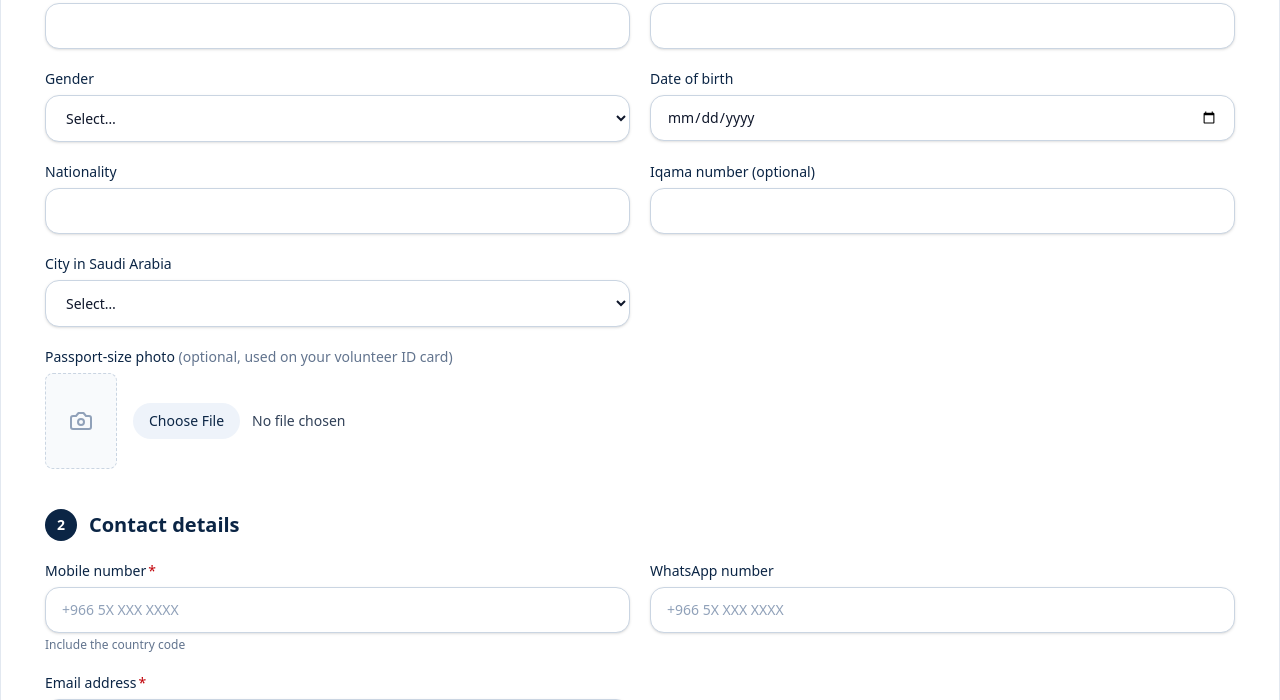
Test: VolunteerForm › maps server field errors onto the fields
Type "Asha" into the field labelled "First name*" at (338, 26), box top-left (45, 3), bottom-right (630, 49)
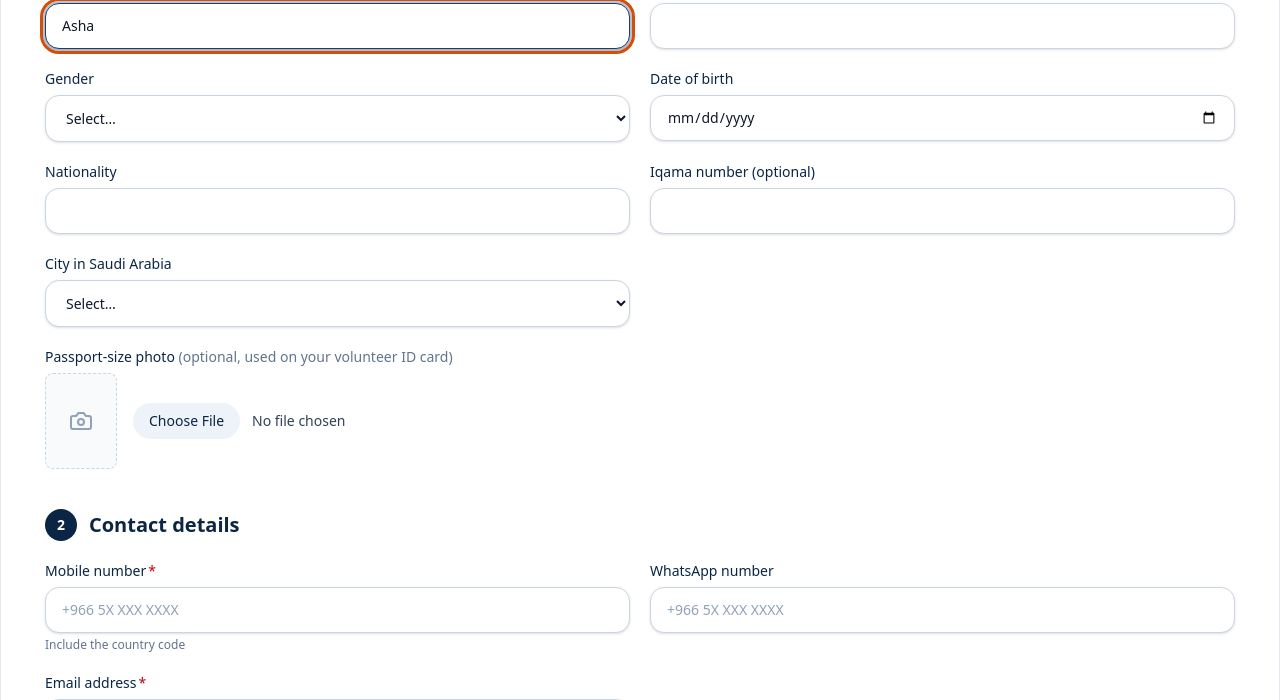
Type "Nair" into the field labelled "Last name*" at (942, 26), box top-left (650, 3), bottom-right (1235, 49)
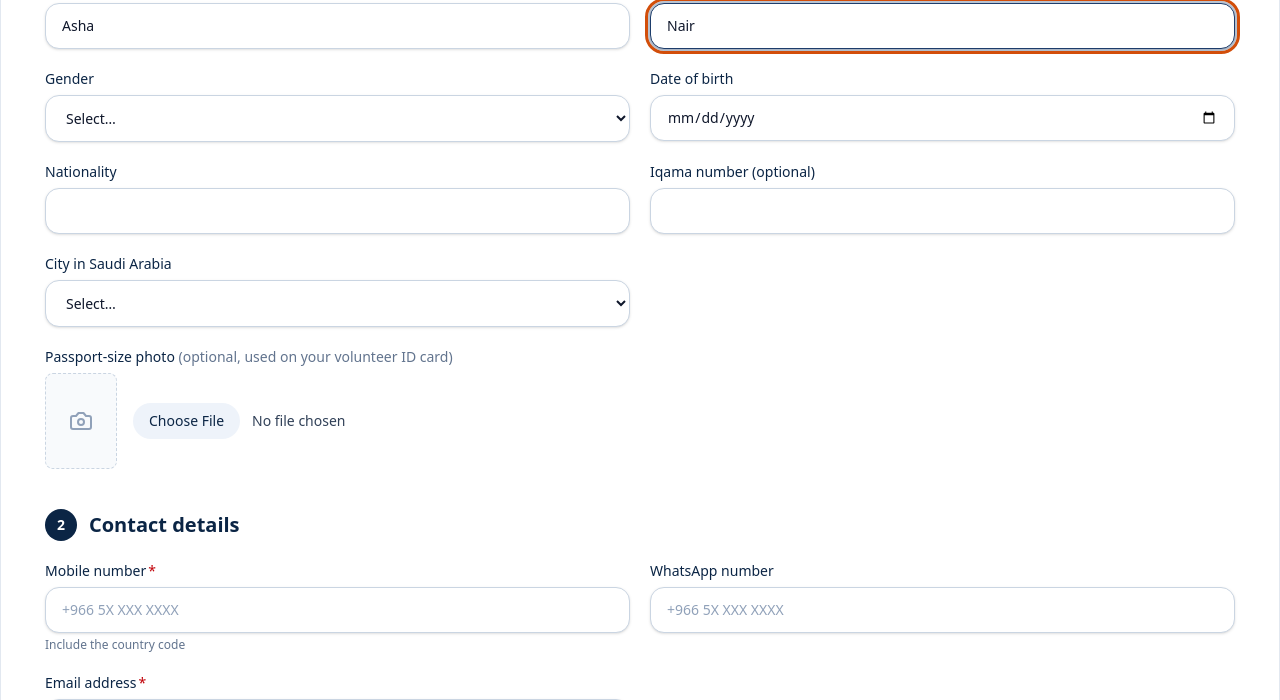
Type "+966501234567" into the field labelled "Mobile number*" at (338, 610), box top-left (45, 587), bottom-right (630, 633)
(page scrolled)
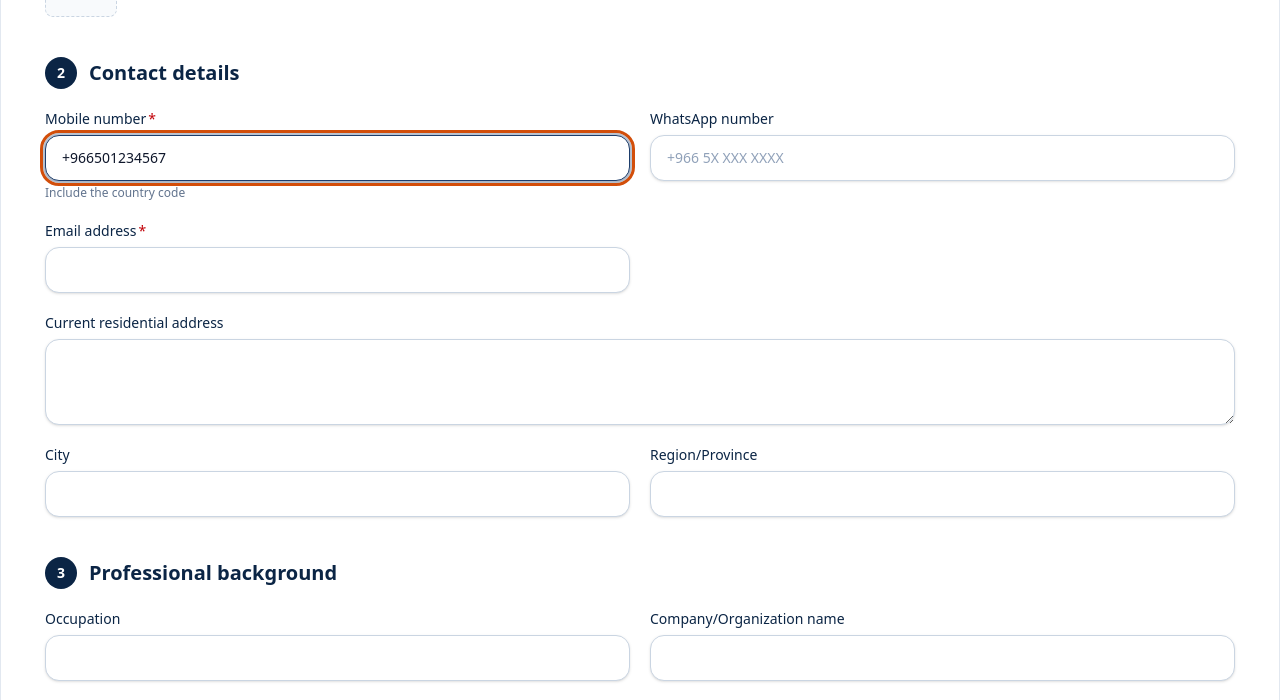
Type "asha@example.com" into the field labelled "Email address*" at (338, 270), box top-left (45, 247), bottom-right (630, 293)
(page scrolled)
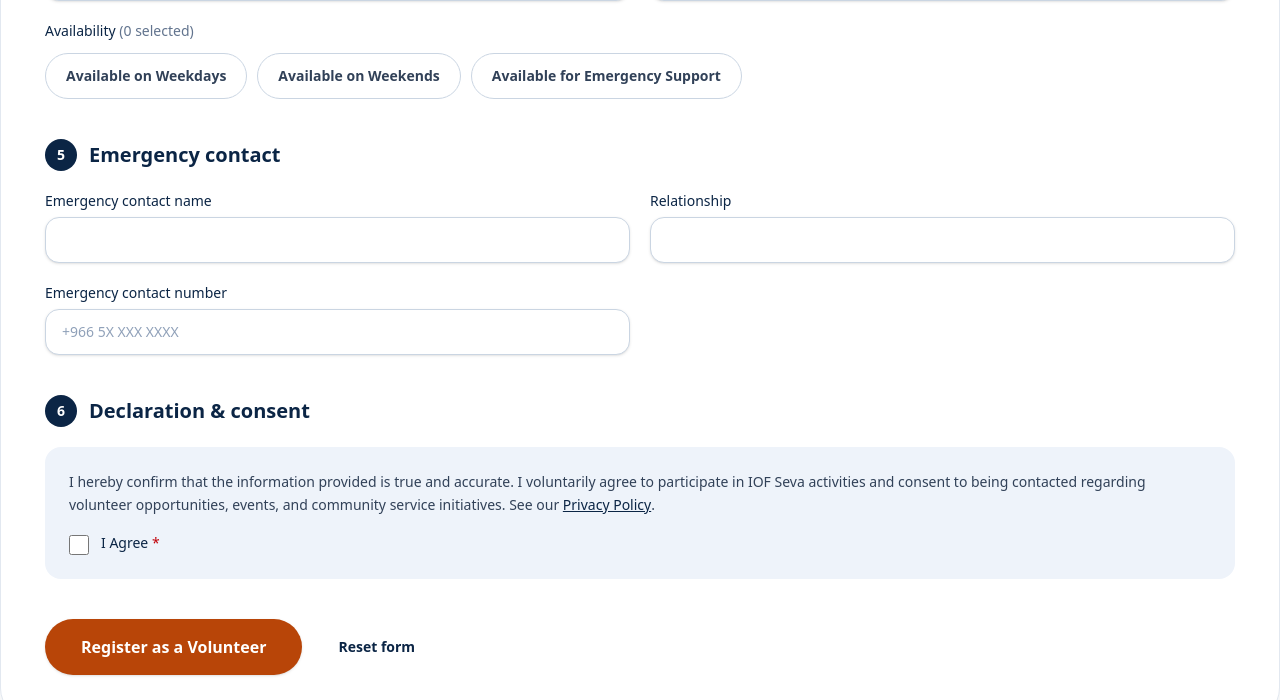
Click the checkbox labelled "I Agree *" at (79, 544), box top-left (69, 534), bottom-right (89, 554)
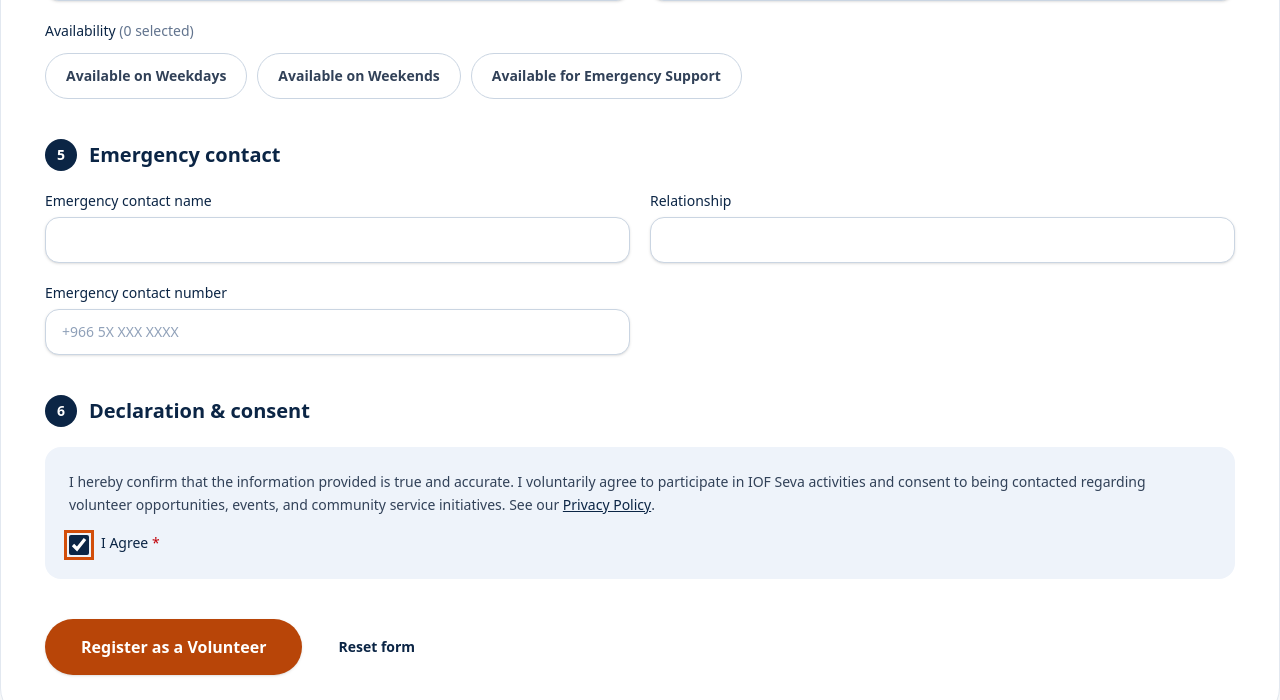
Click the button "Register as a Volunteer" at (174, 646), box top-left (45, 618), bottom-right (302, 674)
(page scrolled)
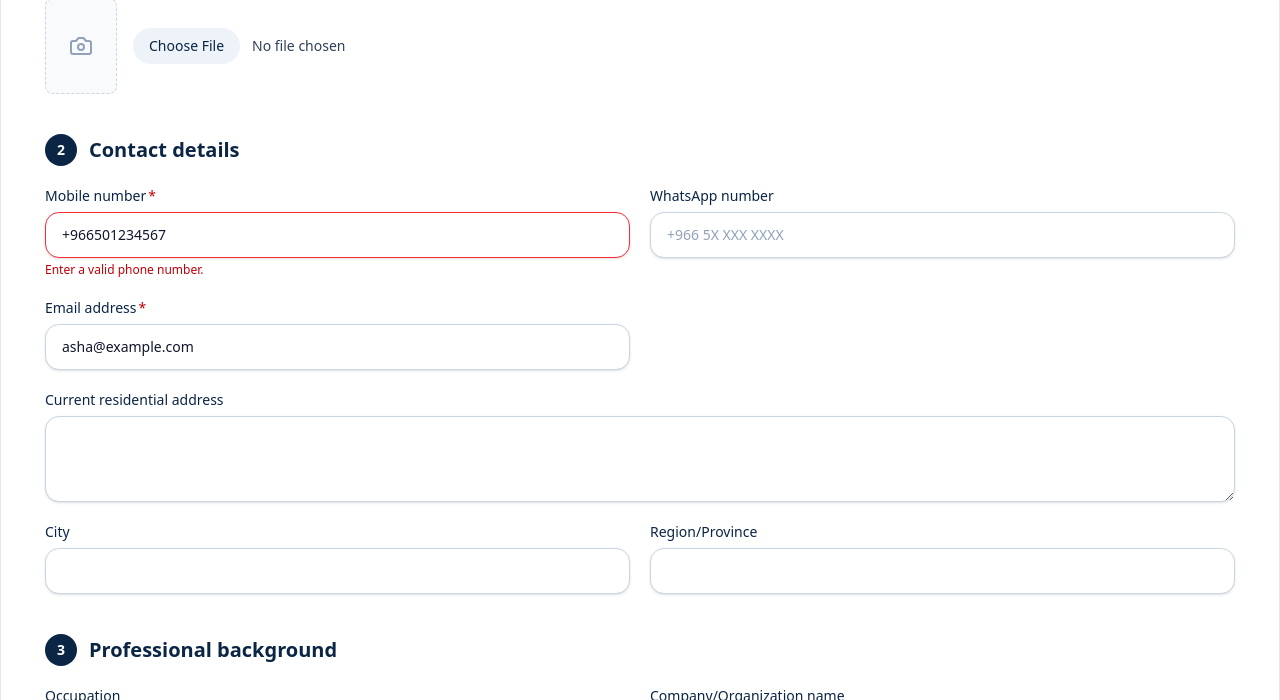
Expected: the text "Enter a valid phone number." is shown, top-left (45, 261), bottom-right (204, 278)
